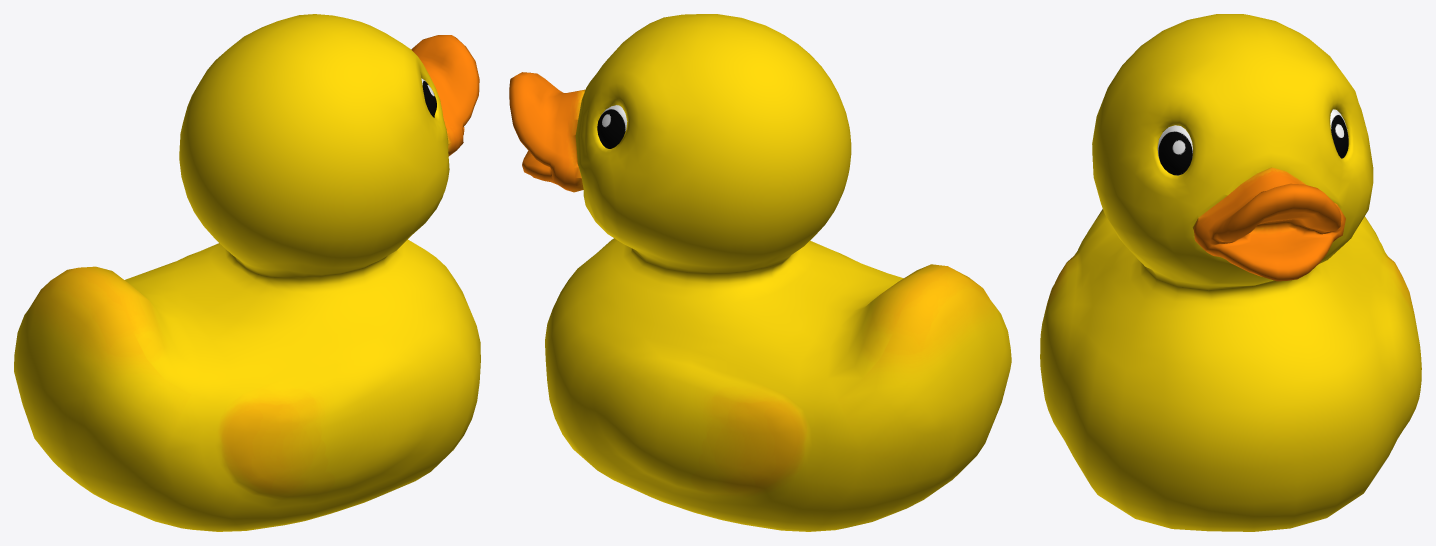
File: Duck-vp-15-vt-15-vn-15.glb
The picture shows the model from 3 angles, left to right: view 1: azimuth 30°, elevation 25°; view 2: azimuth 150°, elevation 25°; view 3: azimuth 270°, elevation 25°; orthographic projection. The views are drawn at different scales.
Bounding box in the file's own units: 1.65 × 1.54 × 1.15.
Materials: 1 (1 with a texture image).
